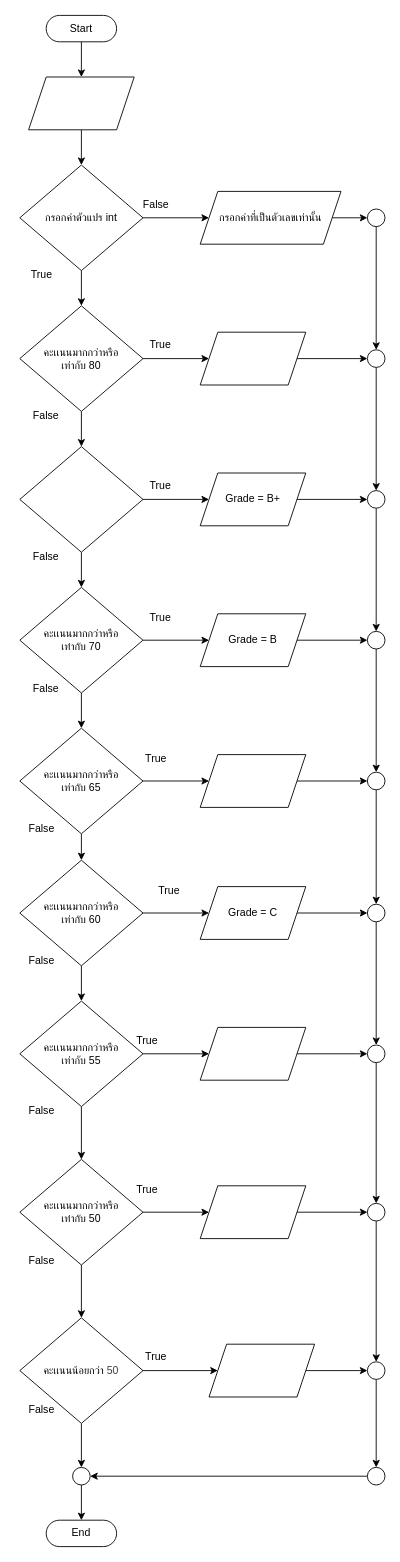
Some shapes in this 400 by 1562 pixel diagram are drawn without their labels. Here are the shapes that lost their labels. From the top down, the centre of each, then its label:
(x=81, y=103): กรอกคะเเนน
(x=252, y=358): Grade = A
(x=81, y=499): คะเเนนมากกว่าหรือ เท่ากับ 75
(x=252, y=780): Grade = C+
(x=252, y=1053): Grade = D+
(x=252, y=1212): Grade = D
(x=261, y=1370): Grade = F
